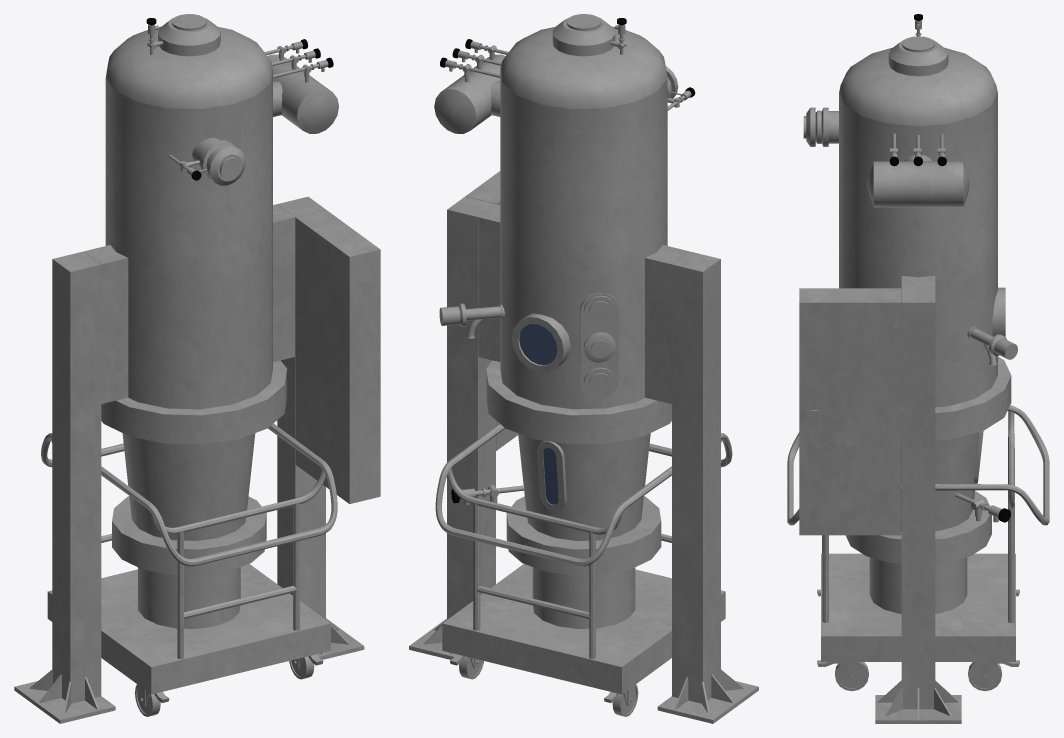
Rendered from Sejong Pharmatech__20250423.glb.
The picture shows the model from 3 angles, left to right: view 1: azimuth 30°, elevation 25°; view 2: azimuth 150°, elevation 25°; view 3: azimuth 270°, elevation 25°; orthographic projection. The views are drawn at different scales.
Visible parts, largest first — view 1: Body_Paull, TopLock_Paull.001; view 2: Body_Paull, TopLock_Paull.001, SmallLock; view 3: Body_Paull, TopLock_Paull.001, SmallLock.
Boxes of the visible parts, x1,y1,x2,y2 form: Body_Paull: (14, 39, 380, 723); TopLock_Paull.001: (105, 14, 272, 109); Body_Paull: (409, 39, 758, 723); TopLock_Paull.001: (500, 14, 667, 109); SmallLock: (511, 313, 570, 372); Body_Paull: (787, 93, 1049, 723); TopLock_Paull.001: (839, 14, 997, 126); SmallLock: (992, 287, 1005, 336).
Size of the model in its own units: 2.59 by 5.37 by 2.06.
1 material, 1 textured.
